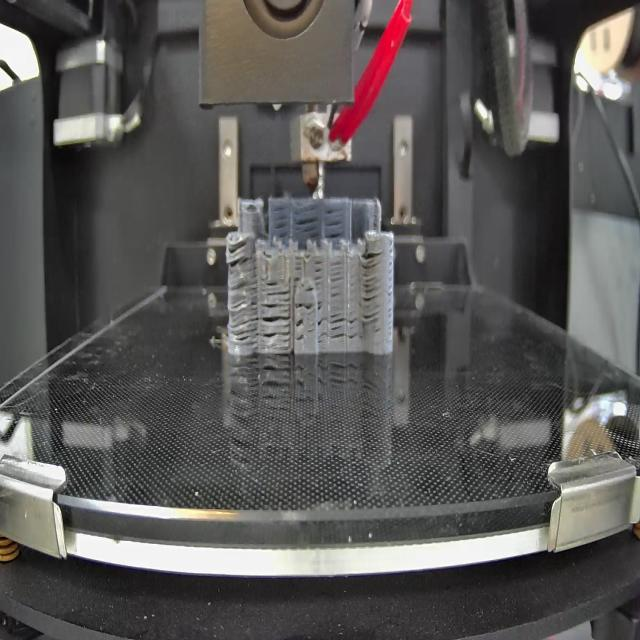cracks: (230, 282, 258, 346), (362, 251, 381, 324), (262, 306, 292, 345), (225, 238, 254, 266), (296, 213, 322, 243), (326, 204, 345, 240), (266, 276, 290, 302), (330, 260, 344, 301), (274, 205, 291, 238), (330, 311, 348, 342), (317, 300, 328, 348), (313, 259, 325, 289), (292, 254, 304, 282), (348, 316, 360, 342), (295, 319, 306, 341), (296, 302, 315, 312), (304, 288, 314, 292)
